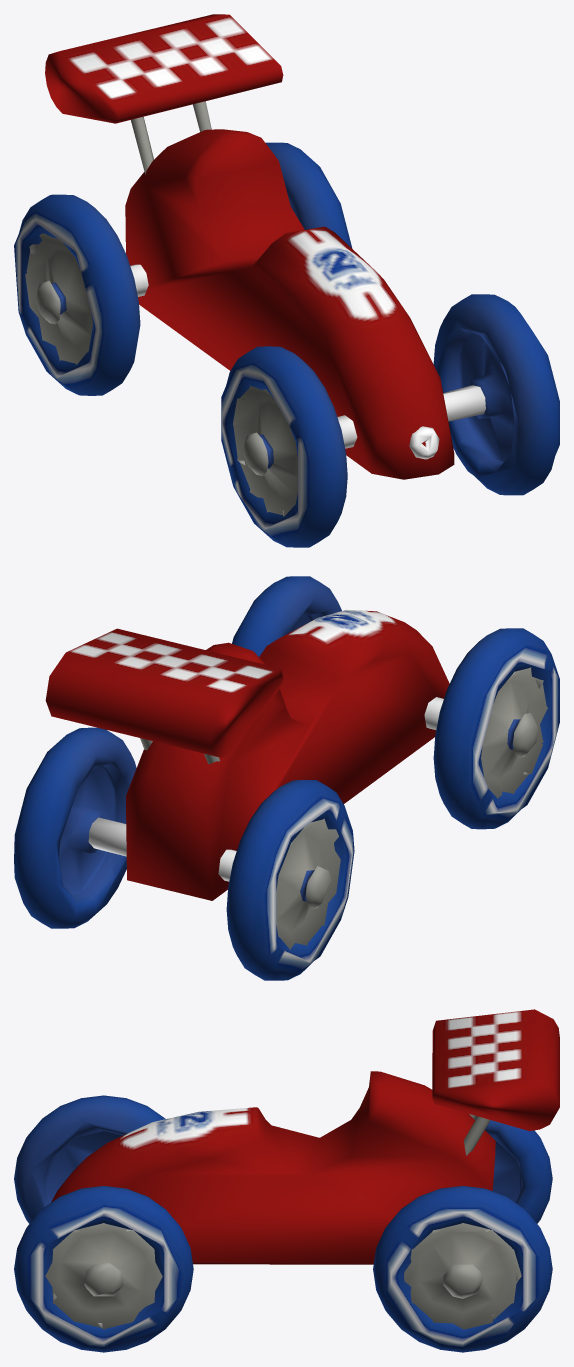
The model's file is hw_pop_car.glb.
3 views of the same model, one above another, from view 1: azimuth 30°, elevation 25°; view 2: azimuth 150°, elevation 25°; view 3: azimuth 270°, elevation 25° (orthographic). The views are drawn at different scales.
Visible parts, largest first — view 1: Object_4; view 2: Object_4; view 3: Object_4.
Part boxes in pixels (box(x1,y1,x2,y2)): Object_4: box(14, 14, 559, 547); Object_4: box(14, 576, 559, 980); Object_4: box(14, 1009, 559, 1352).
Size of the model in its own units: 21.37 by 21.38 by 40.79.
Materials: 1 (1 with a texture image).
